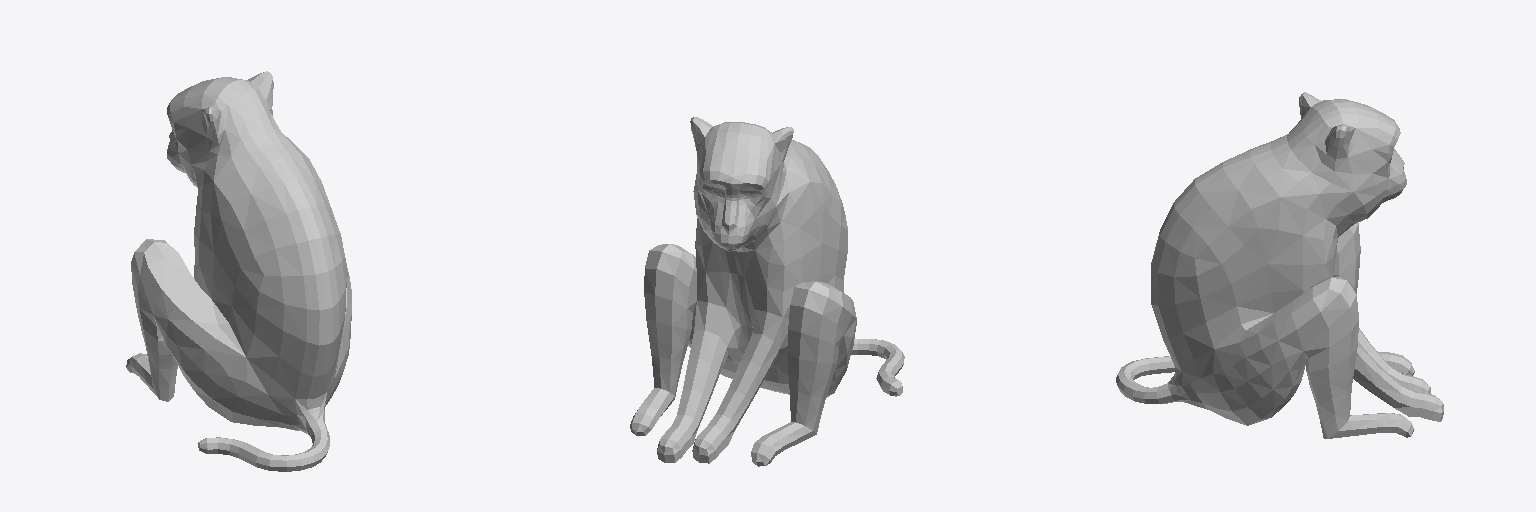
Rendered from monkey.obj.
3 views of the same model, side by side, from view 1: azimuth 30°, elevation 25°; view 2: azimuth 150°, elevation 25°; view 3: azimuth 270°, elevation 25° (orthographic).
Visible parts, largest first — view 1: monkey2; view 2: monkey2; view 3: monkey2.
Boxes of the visible parts, x1,y1,x2,y2 form: monkey2: [126, 71, 351, 471]; monkey2: [630, 117, 904, 466]; monkey2: [1116, 92, 1443, 438].
Size of the model in its own units: 0.4739 by 0.724 by 0.7074.